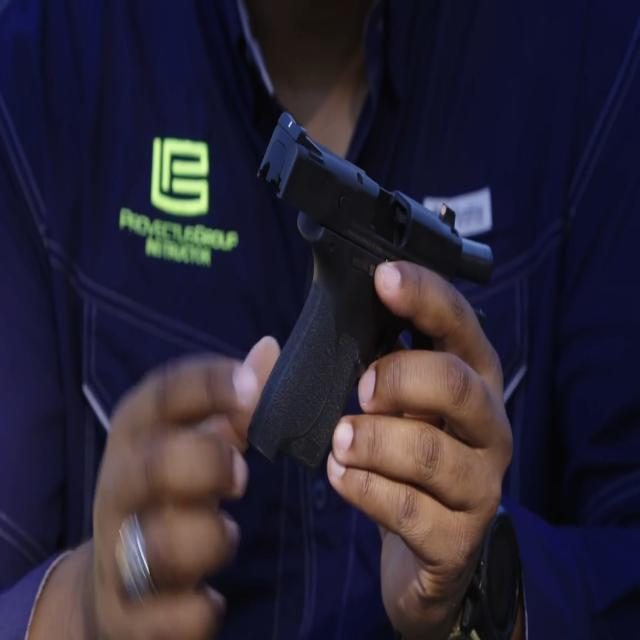handgun: (231, 96, 490, 475)
